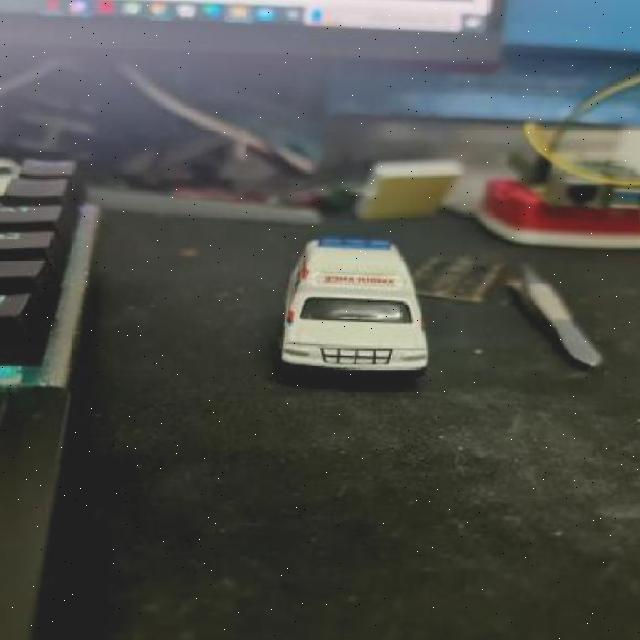car: (273, 233, 435, 393)
